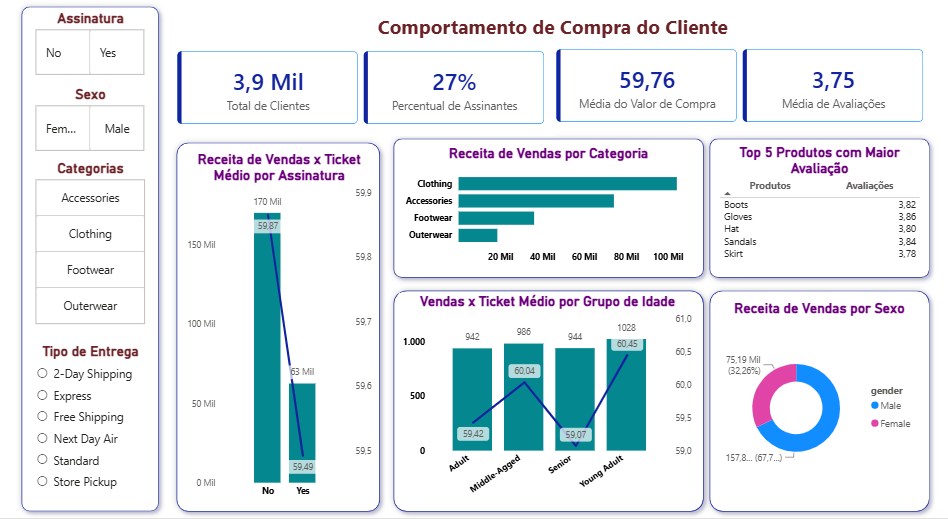

What the dashboard file says about the page in this screenshot:
{"tool":"powerbi","page":{"name":"Page 1","canvas":[1280,720],"ordinal":0},"visuals":[{"type":"shape","box":[0,0,208.8,720],"z":0},{"type":"shape","box":[517,182.9,449.3,211.7],"z":1000},{"type":"shape","box":[956.2,394.6,324,325.4],"z":2000},{"type":"shape","box":[956.2,182.9,324,211.7],"z":3000},{"type":"cardVisual","fields":{"Data":["public customer.Total de Clientes","public customer.Percentual de Assinantes"]},"box":[208.8,54.7,544.3,135.4],"z":4000},{"type":"cardVisual","fields":{"Data":["public customer.Média do Valor de Compra","public customer.Média de Avaliações"]},"box":[735.8,51.8,544.3,135.4],"z":5000},{"type":"shape","box":[517,394.6,449.3,325.4],"z":6000},{"type":"clusteredBarChart","title":"Receita de Vendas por Categoria","fields":{"Category":["public customer.category"],"Y":["Sum(public customer.purchase_amount)"]},"box":[537.1,201.6,410.4,174.2],"z":7000},{"type":"donutChart","title":"Receita de Vendas por Sexo","fields":{"Category":["public customer.gender"],"Y":["Sum(public customer.purchase_amount)"]},"box":[977.8,417.6,282.2,277.9],"z":8000},{"type":"tableEx","title":"Top 5 Produtos com Maior Avaliação","fields":{"Values":["public customer.item_purchased","public customer.Média de Avaliações"]},"box":[974.9,200.2,288,178.6],"z":9000},{"type":"lineClusteredColumnComboChart","title":" Vendas x Ticket Médio por Grupo de Idade","fields":{"Category":["public customer.age_group"],"Y":["Count(public customer.customer_id)"],"Y2":["public customer.Ticket Médio"]},"box":[534.2,407.5,413.3,298.1],"z":10000},{"type":"advancedSlicerVisual","title":"Assinatura","fields":{"Values":["public customer.subscription_status"]},"box":[23,14.4,162.7,95],"z":11000},{"type":"advancedSlicerVisual","title":"Sexo","fields":{"Values":["public customer.gender"]},"box":[23,119.5,162.7,95],"z":12000},{"type":"advancedSlicerVisual","title":"Categorias","fields":{"Values":["public customer.category"]},"box":[23,221.8,162.7,233.3],"z":13000},{"type":"listSlicer","title":"Tipo de Entrega","fields":{"Values":["public customer.shipping_type"]},"box":[23,476.6,162.7,224.6],"z":14000},{"type":"shape","box":[216,188.6,301,531.4],"z":15000},{"type":"lineClusteredColumnComboChart","title":"Receita de Vendas x Ticket Médio por Assinatura","fields":{"Y":["Sum(public customer.purchase_amount)"],"Category":["public customer.subscription_status"],"Y2":["public customer.Ticket Médio"]},"box":[233.3,210.2,267.8,491],"z":16000},{"type":"textbox","box":[216,14.4,1064.2,47.5],"z":17000}]}

Visuals, with their boxes in screenshot pixels (x1, y1, x2, y2), scaled from the page's 1280x720 canvas onto the 948x519 screenshot:
shape: x1=0, y1=0, x2=155, y2=518
shape: x1=383, y1=132, x2=716, y2=284
shape: x1=708, y1=284, x2=947, y2=518
shape: x1=708, y1=132, x2=947, y2=284
cardVisual - public customer.Total de Clientes x public customer.Percentual de Assinantes: x1=155, y1=39, x2=558, y2=137
cardVisual - public customer.Média do Valor de Compra x public customer.Média de Avaliações: x1=545, y1=37, x2=947, y2=135
shape: x1=383, y1=284, x2=716, y2=518
"Receita de Vendas por Categoria" clusteredBarChart: x1=398, y1=145, x2=702, y2=271
"Receita de Vendas por Sexo" donutChart: x1=724, y1=301, x2=933, y2=501
"Top 5 Produtos com Maior Avaliação" tableEx: x1=722, y1=144, x2=935, y2=273
" Vendas x Ticket Médio por Grupo de Idade" lineClusteredColumnComboChart: x1=396, y1=294, x2=702, y2=509
"Assinatura" advancedSlicerVisual: x1=17, y1=10, x2=138, y2=79
"Sexo" advancedSlicerVisual: x1=17, y1=86, x2=138, y2=155
"Categorias" advancedSlicerVisual: x1=17, y1=160, x2=138, y2=328
"Tipo de Entrega" listSlicer: x1=17, y1=344, x2=138, y2=505
shape: x1=160, y1=136, x2=383, y2=518
"Receita de Vendas x Ticket Médio por Assinatura" lineClusteredColumnComboChart: x1=173, y1=152, x2=371, y2=505
textbox: x1=160, y1=10, x2=947, y2=45
